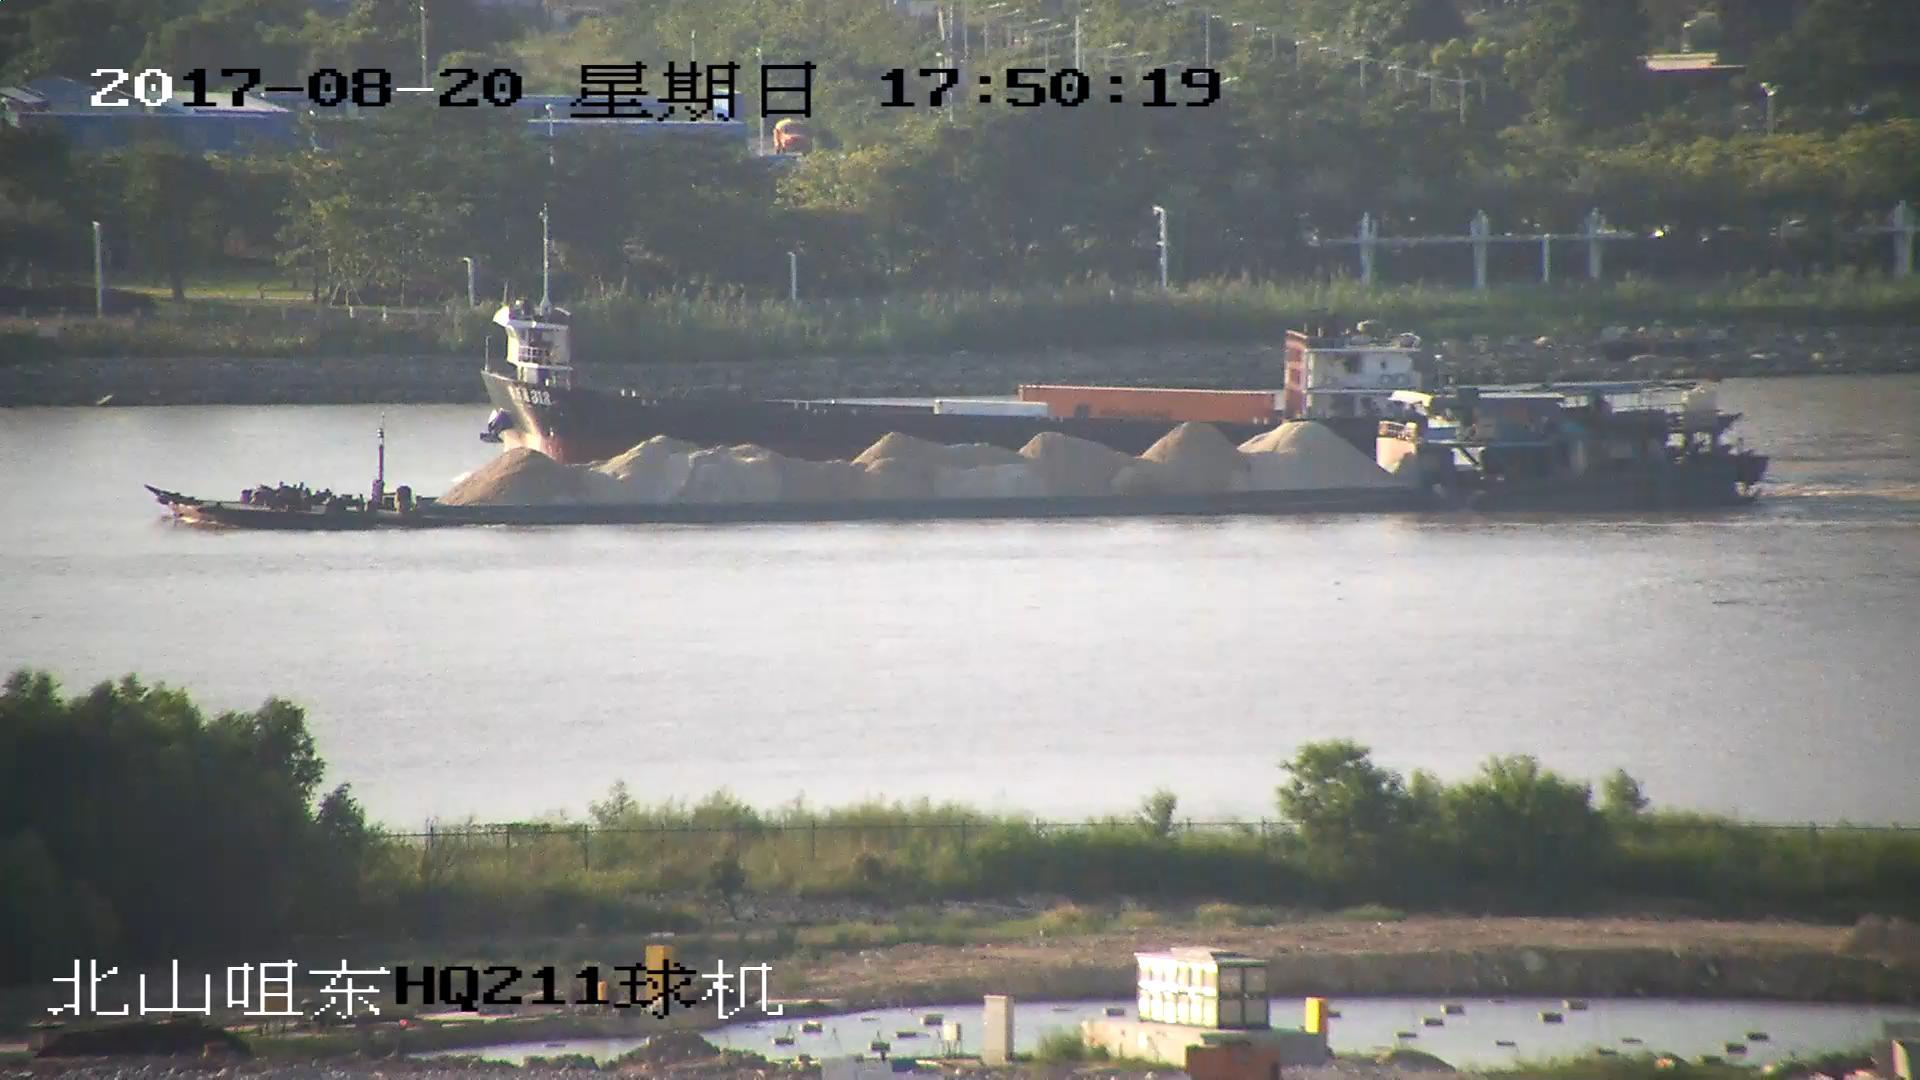Ship: (475, 194, 1455, 460), (145, 398, 1766, 530)
